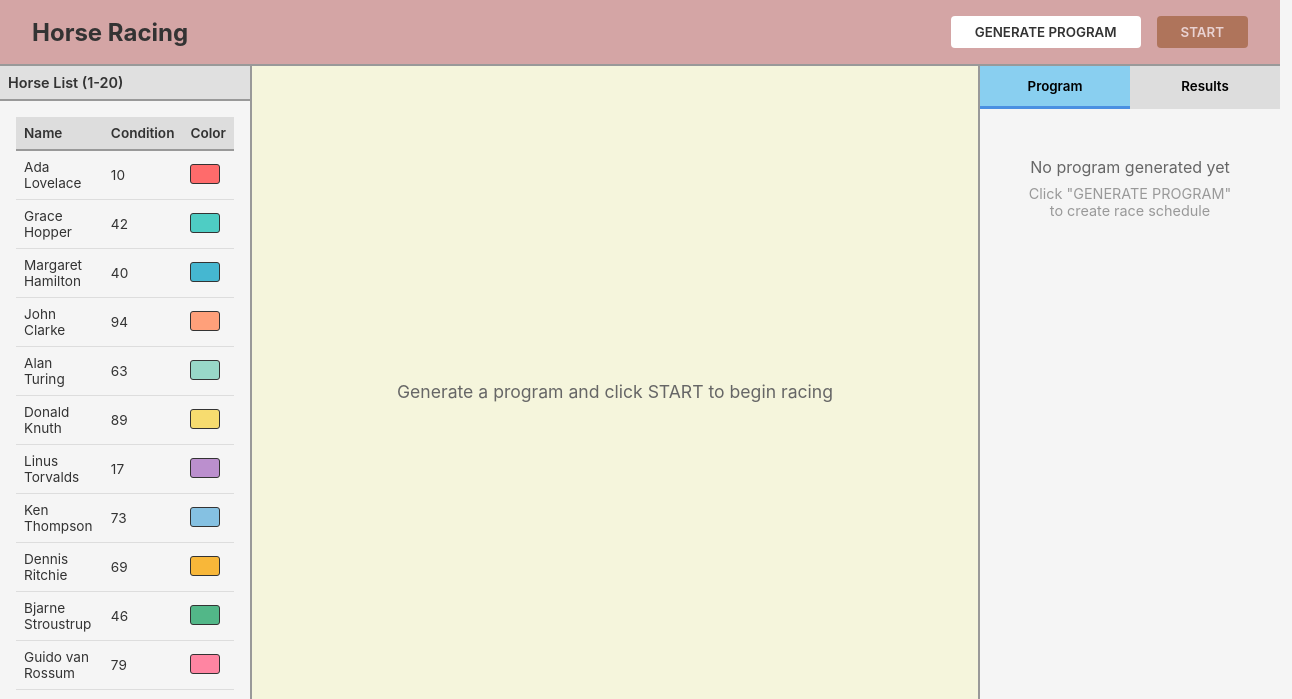
Test: Horse Racing Game - UI Validation › Button States › should change START to PAUSE during race
Click the button "GENERATE PROGRAM": (1046, 32) [951, 16, 1141, 48]
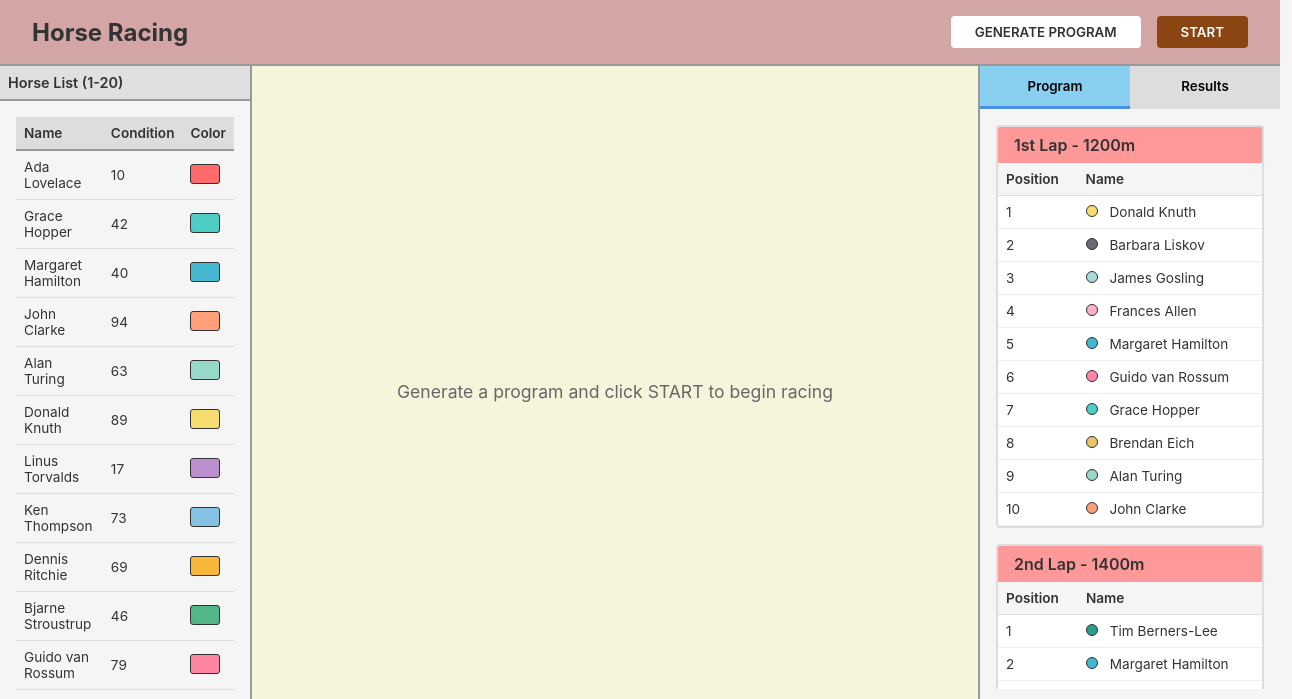
Click the button "START": (1203, 32) [1157, 16, 1248, 48]
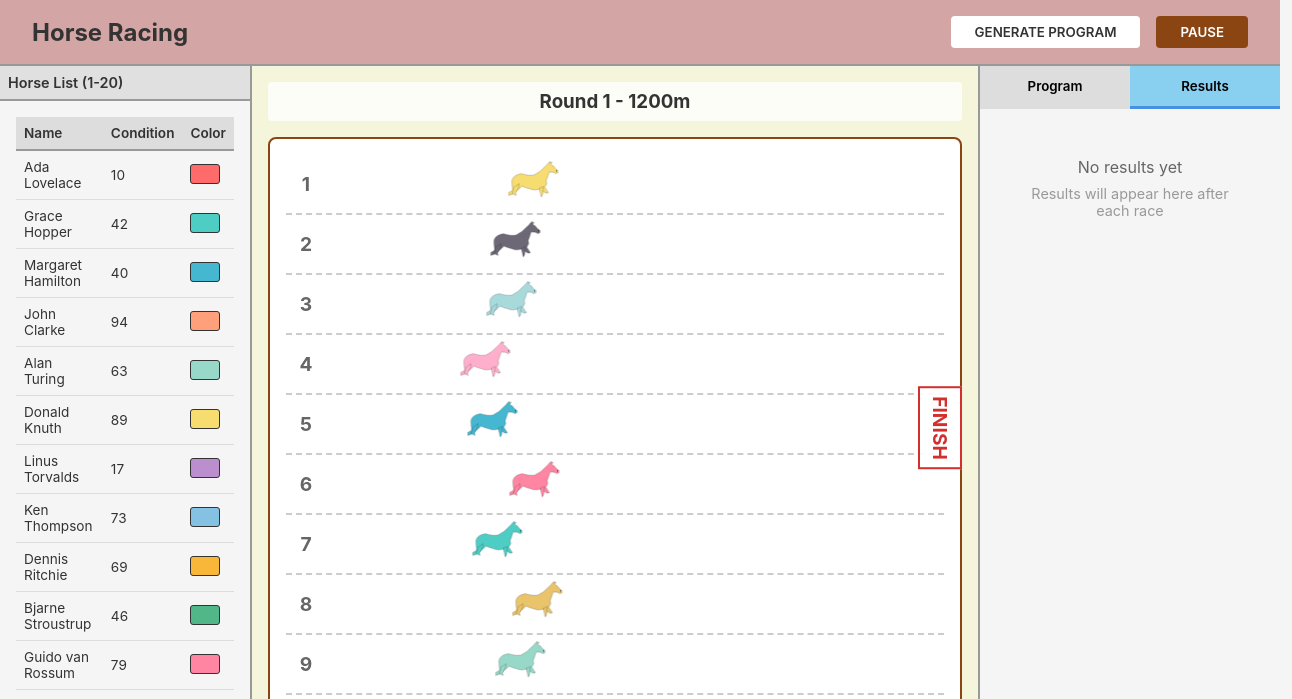
Result: the button "PAUSE" is shown at [1156, 16, 1248, 48]
Result: the button "START" is gone
